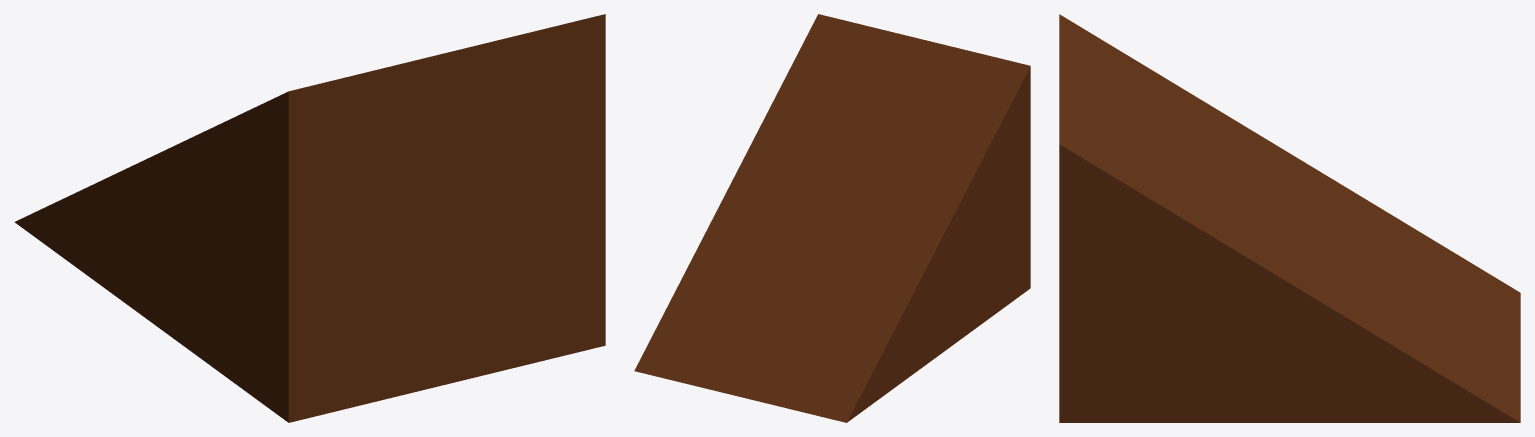
The model's file is ramp4.fbx.
3 renders of one model, left to right at view 1: azimuth 30°, elevation 25°; view 2: azimuth 150°, elevation 25°; view 3: azimuth 270°, elevation 25°, orthographic. The views are drawn at different scales.
Visible parts, largest first — view 1: Ramp 4; view 2: Ramp 4; view 3: Ramp 4.
Part boxes in pixels (bbox=[...]): Ramp 4: bbox=[14, 14, 605, 422]; Ramp 4: bbox=[634, 14, 1030, 422]; Ramp 4: bbox=[1059, 14, 1520, 422].
Bounding box in the file's own units: 200 × 200 × 300.
